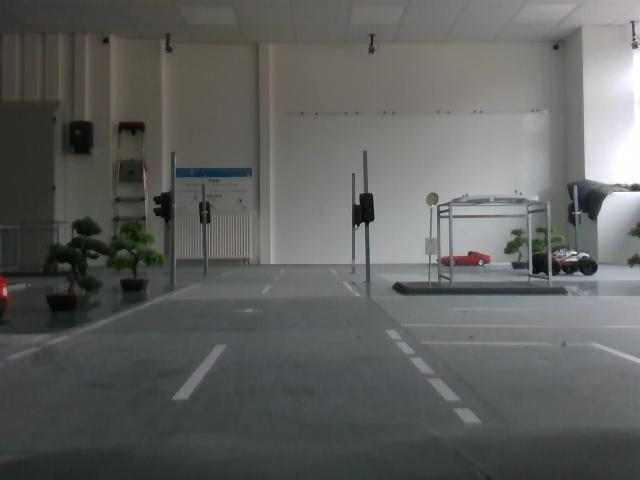car: (534, 245, 600, 280), (441, 248, 489, 273)
potted plant: (45, 239, 87, 314), (116, 218, 152, 291), (508, 227, 535, 273)
traffic light: (155, 186, 180, 228), (359, 192, 382, 229)
